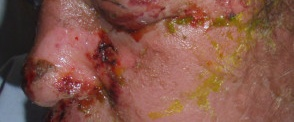SJS-TEN: (19, 0, 294, 122)
